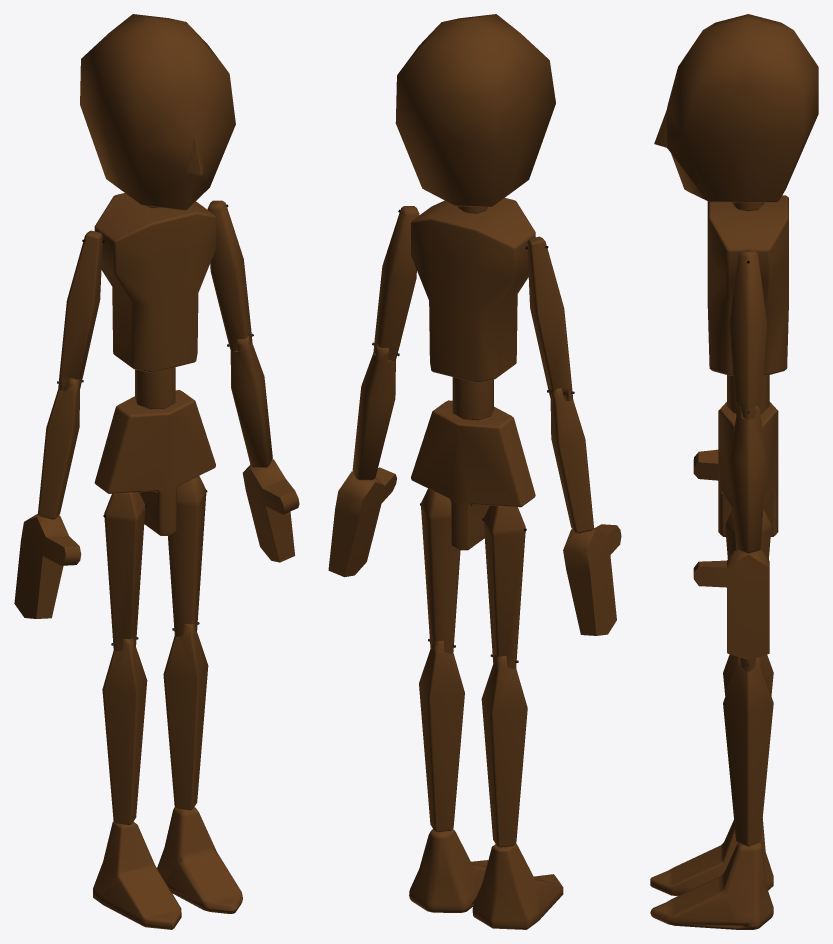
Rendered from MarionetteBaseMesh.fbx.
The picture shows the model from 3 angles, left to right: view 1: azimuth 30°, elevation 25°; view 2: azimuth 150°, elevation 25°; view 3: azimuth 270°, elevation 25°; orthographic projection. The views are drawn at different scales.
Parts seen in each view (by area): view 1: Head, UpperTorso, LowerTorso, LowerLegL, LowerLegR, FootR, FootL, UpperLegR, HandR, UpperLegL, UpperArmR, HandL (+4 smaller); view 2: Head, UpperTorso, LowerTorso, LowerLegR, LowerLegL, UpperLegR, FootR, HandR, UpperLegL, FootL, UpperArmR, HandL (+4 smaller); view 3: Head, UpperTorso, LowerLegL, FootL, HandL, UpperArmL, LowerArmL, LowerTorso, FootR, UpperLegL, HandR, LowerLegR (+1 smaller).
Boxes of the visible parts, box(x1,y1,x2,y2) form: Head: box(80, 14, 235, 210); UpperTorso: box(94, 193, 216, 372); LowerTorso: box(94, 390, 215, 535); LowerLegL: box(163, 622, 208, 810); LowerLegR: box(102, 637, 147, 825); FootR: box(93, 821, 181, 929); FootL: box(157, 807, 242, 913); UpperLegR: box(103, 492, 146, 651); HandR: box(14, 513, 81, 618); UpperLegL: box(168, 476, 207, 636); UpperArmR: box(58, 230, 104, 390); HandL: box(242, 459, 299, 562); Head: box(395, 14, 555, 213); UpperTorso: box(411, 198, 535, 382); LowerTorso: box(411, 400, 535, 550); LowerLegR: box(481, 654, 527, 847); LowerLegL: box(419, 639, 464, 832); UpperLegR: box(482, 505, 526, 668); FootR: box(472, 844, 563, 929); HandR: box(563, 524, 621, 635); UpperLegL: box(420, 488, 460, 653); FootL: box(409, 829, 488, 912); UpperArmR: box(525, 236, 572, 400); HandL: box(328, 467, 396, 577); Head: box(654, 14, 818, 211); UpperTorso: box(707, 195, 788, 375); LowerLegL: box(723, 656, 773, 846); FootL: box(650, 842, 773, 929); HandL: box(693, 550, 769, 660); UpperArmL: box(729, 249, 766, 419); LowerArmL: box(729, 403, 766, 553); LowerTorso: box(718, 402, 778, 536); FootR: box(650, 818, 773, 895); UpperLegL: box(725, 508, 771, 671); HandR: box(693, 449, 718, 480); LowerLegR: box(723, 654, 773, 695).
Bounding box in the file's own units: 57.72 × 183 × 31.57.
